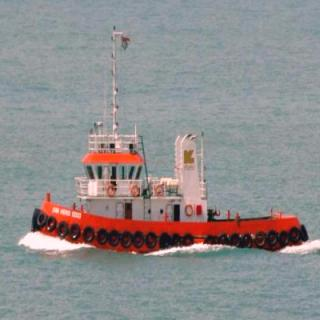Tug Boat: (13, 106, 320, 251)
